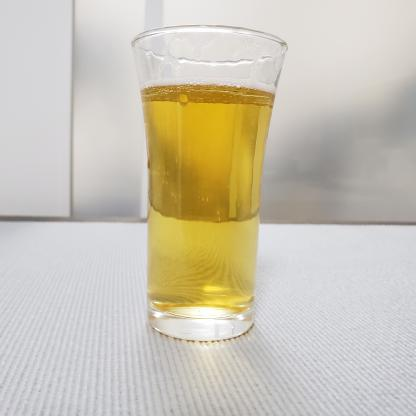glass: (124, 17, 295, 347)
